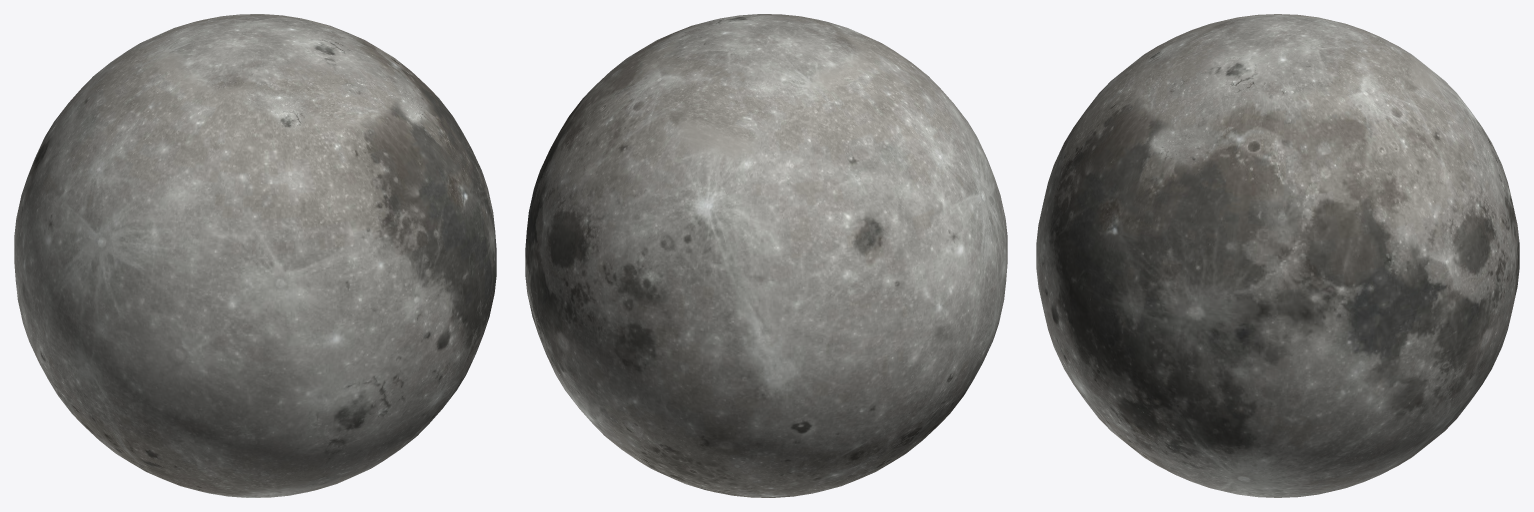
Rendered from graymoon_1.fbx.
3 renders of one model, left to right at view 1: azimuth 30°, elevation 25°; view 2: azimuth 150°, elevation 25°; view 3: azimuth 270°, elevation 25°, orthographic.
Parts seen in each view (by area): view 1: graymoon_1; view 2: graymoon_1; view 3: graymoon_1.
Boxes of the visible parts, box(x1,y1,x2,y2) form: graymoon_1: box(14, 14, 496, 497); graymoon_1: box(525, 14, 1007, 497); graymoon_1: box(1036, 14, 1519, 497).
Size of the model in its own units: 995 by 994 by 995.
Materials: 1 (1 with a texture image).
